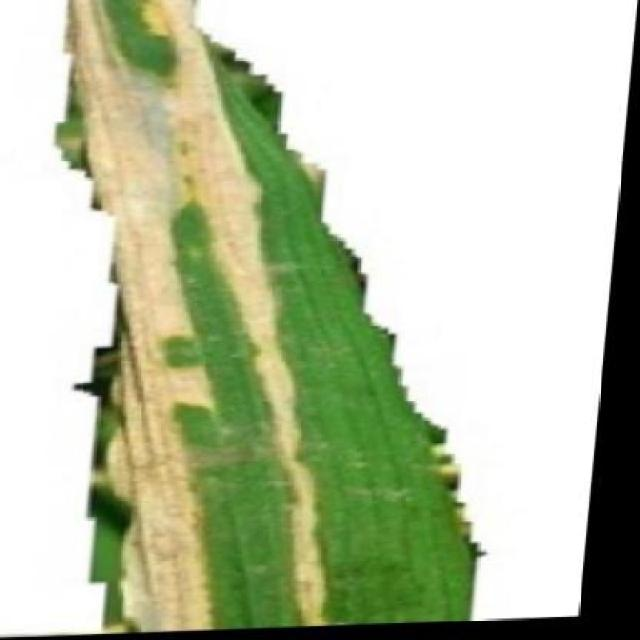Brown_Spot: (9, 0, 533, 638)
